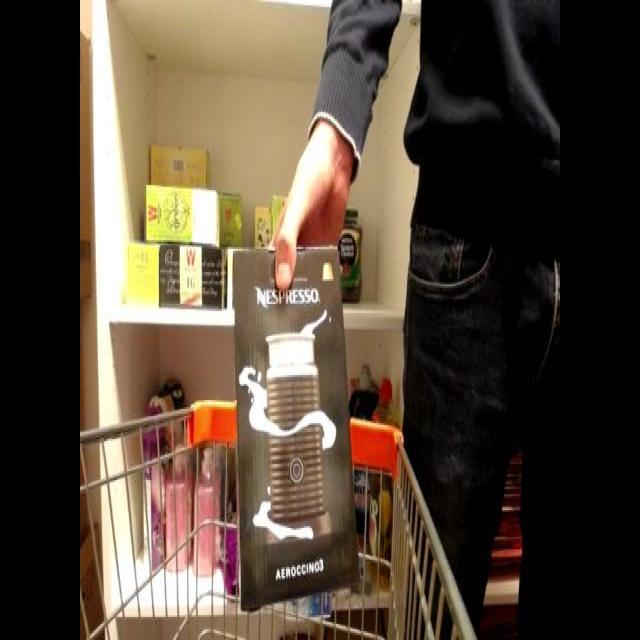Nespresso: (216, 229, 369, 623)
